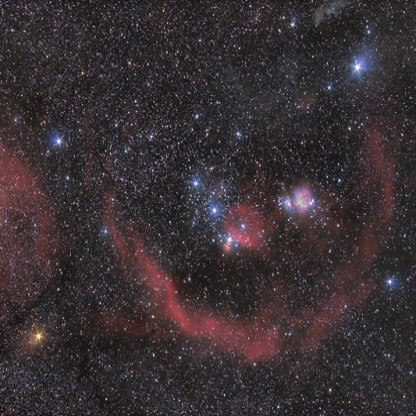Orion: (21, 316, 62, 356), (333, 52, 377, 85), (374, 269, 404, 301), (42, 127, 73, 155), (208, 224, 240, 249), (195, 199, 220, 219), (184, 169, 208, 189)
